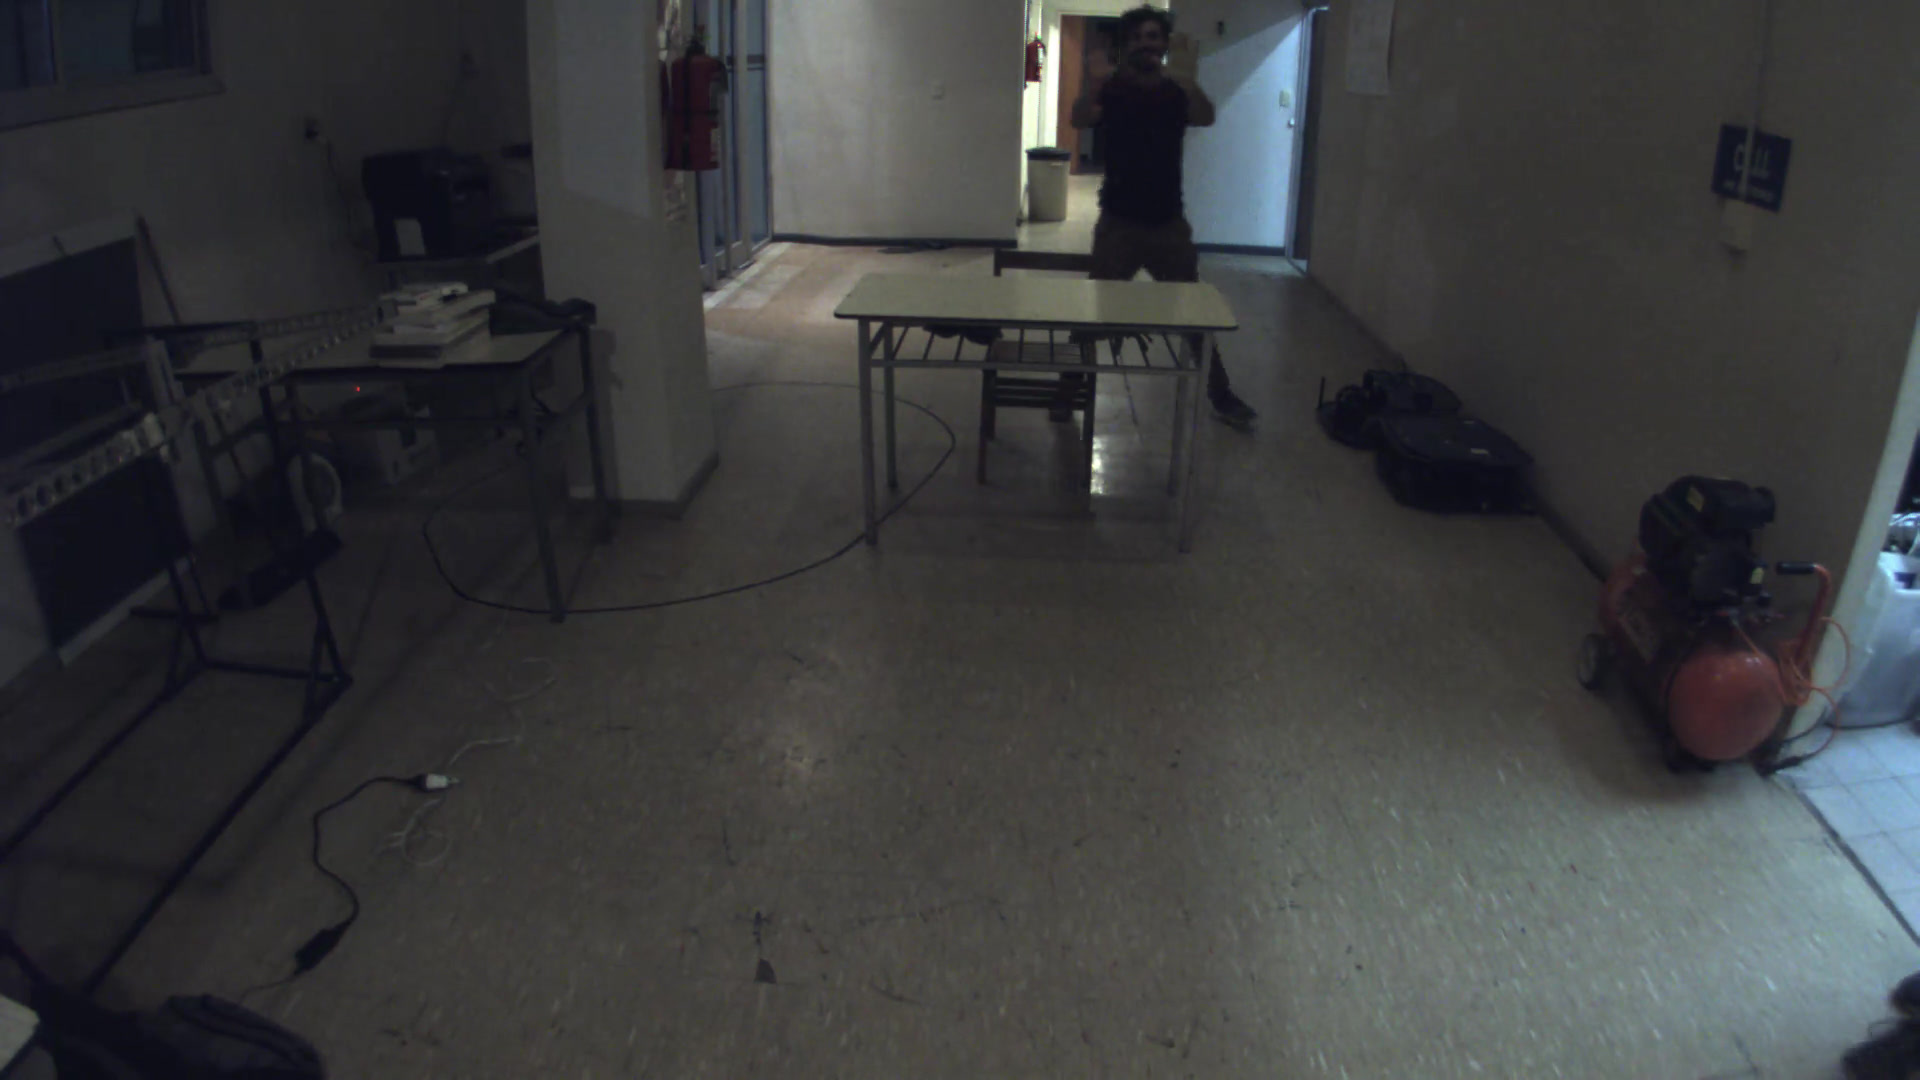hand: (1145, 26, 1217, 94), (1076, 32, 1129, 88)
